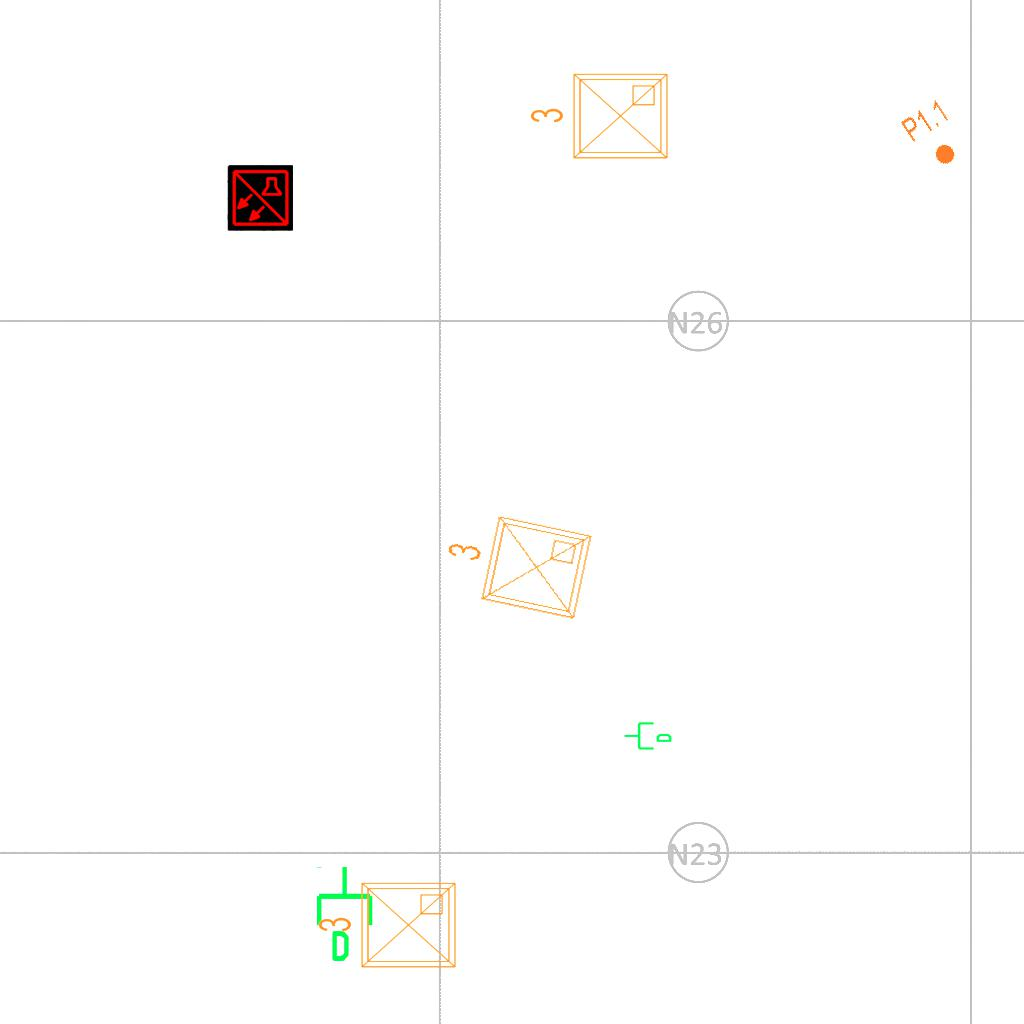Datenanschluss_einfach: (312, 864, 381, 964), (623, 718, 673, 752)
Downlight_LED_Einbauleuchten_Flur: (898, 96, 972, 176)
Einbaudownlights_LED_Konferenzraeume: (431, 498, 601, 632), (525, 66, 675, 170), (313, 875, 463, 979)
OKW_Multisensormelder_(Kombination_optischer_Rauch-Kahlenmonoxid_Waerme-Melder): (227, 165, 293, 231)
